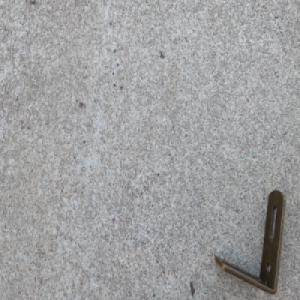MetalPart: (212, 186, 285, 294)
